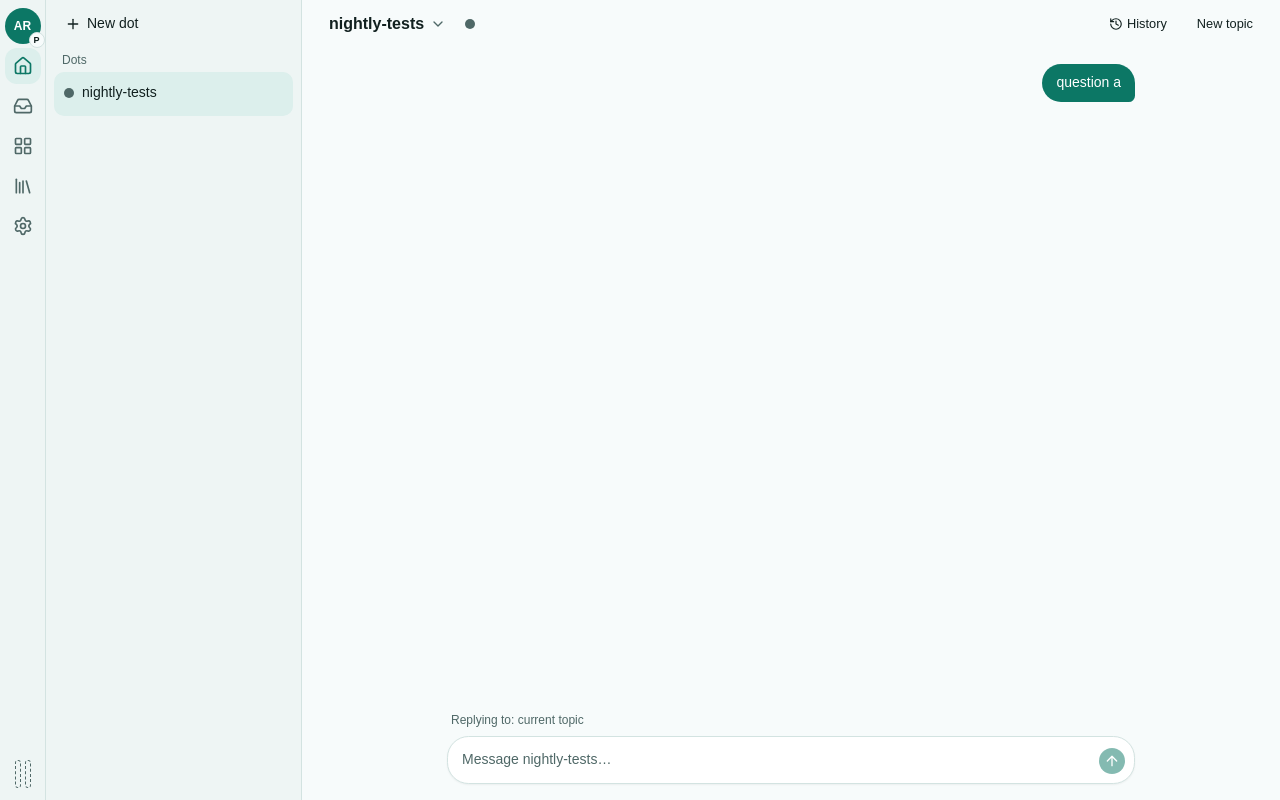
Scenario: sending on the home › keeps the composer locked after a send until the topics have reloaded
In the text box labelled "Message": (773, 760) left=456, top=745, right=1090, bottom=775, type "first"
Then press Enter
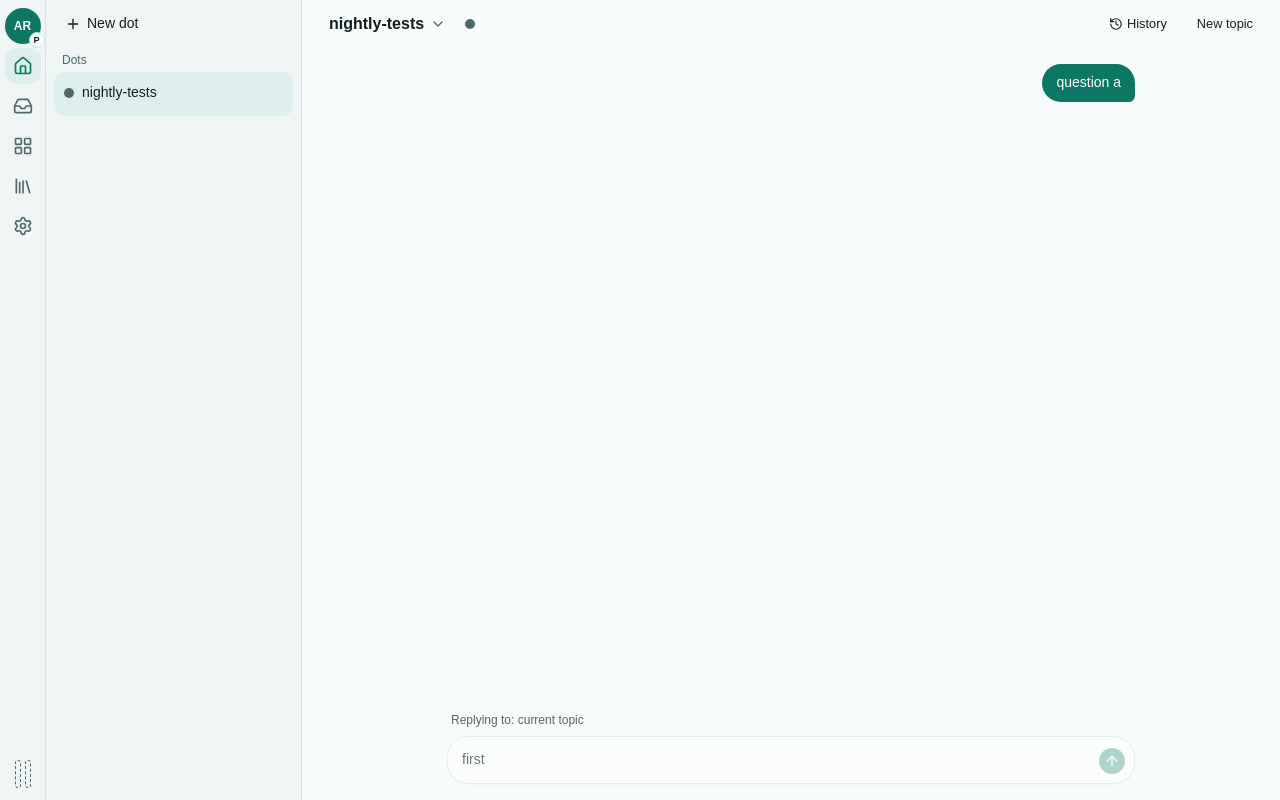
expect the text box named "Message" is disabled: met
In the text box named "Message": (773, 760) left=456, top=745, right=1090, bottom=775, type "second"
Then press Enter
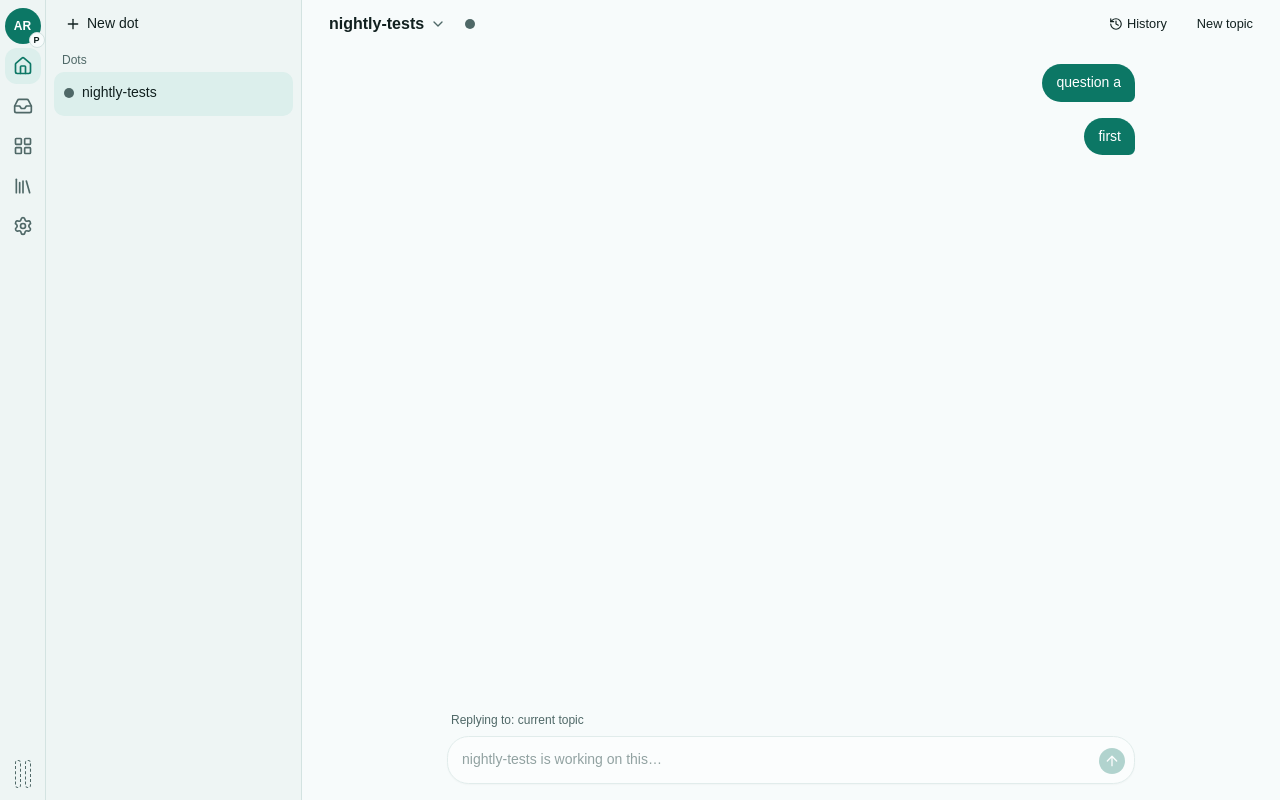
expect the text box named "Message" is disabled: met, box left=456, top=745, right=1090, bottom=775
expect the text "first" is shown: met, box left=1084, top=118, right=1135, bottom=155
